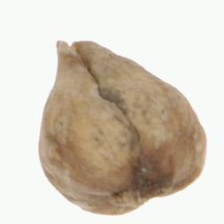L1: (114, 169, 199, 213), (52, 37, 104, 51)
L2: (37, 40, 207, 216)
